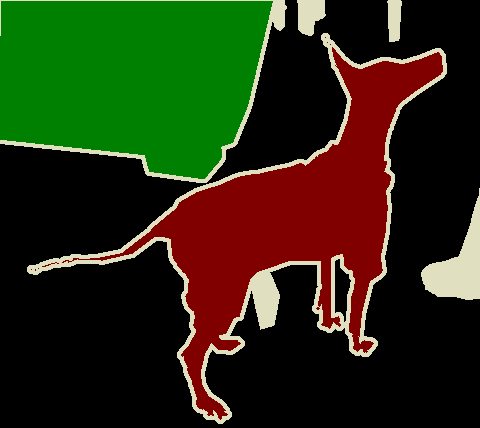dog: (27, 50, 446, 423)
sofa: (1, 1, 277, 181)
